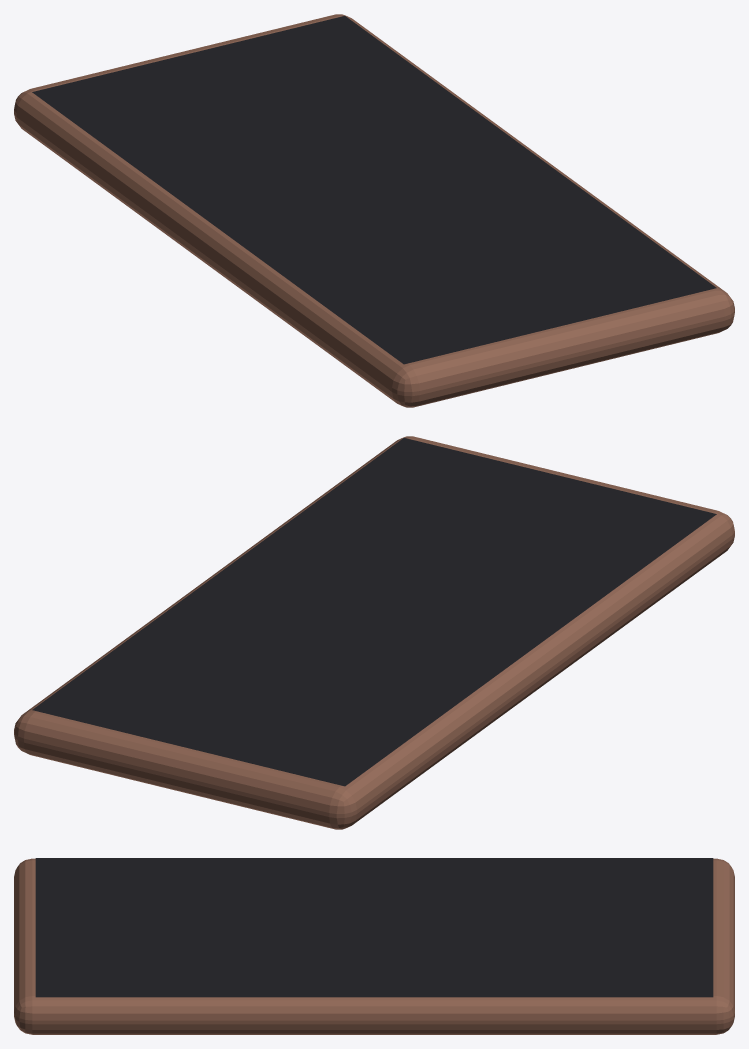
Rendered from google-pixel-a-model-391-budget-2025.glb.
3 renders of one model, top to bottom at view 1: azimuth 30°, elevation 25°; view 2: azimuth 150°, elevation 25°; view 3: azimuth 270°, elevation 25°, orthographic. The views are drawn at different scales.
Parts seen in each view (by area): view 1: Phone_Screen, Phone_Body; view 2: Phone_Screen, Phone_Body; view 3: Phone_Screen, Phone_Body.
Boxes of the visible parts, <box> form: Phone_Screen: <box>32,16,716,364</box>; Phone_Body: <box>14,14,734,407</box>; Phone_Screen: <box>32,438,716,786</box>; Phone_Body: <box>14,436,734,829</box>; Phone_Screen: <box>35,858,713,997</box>; Phone_Body: <box>14,858,734,1034</box>.
Size of the model in its own units: 0.0785 by 0.0091 by 0.1581.
